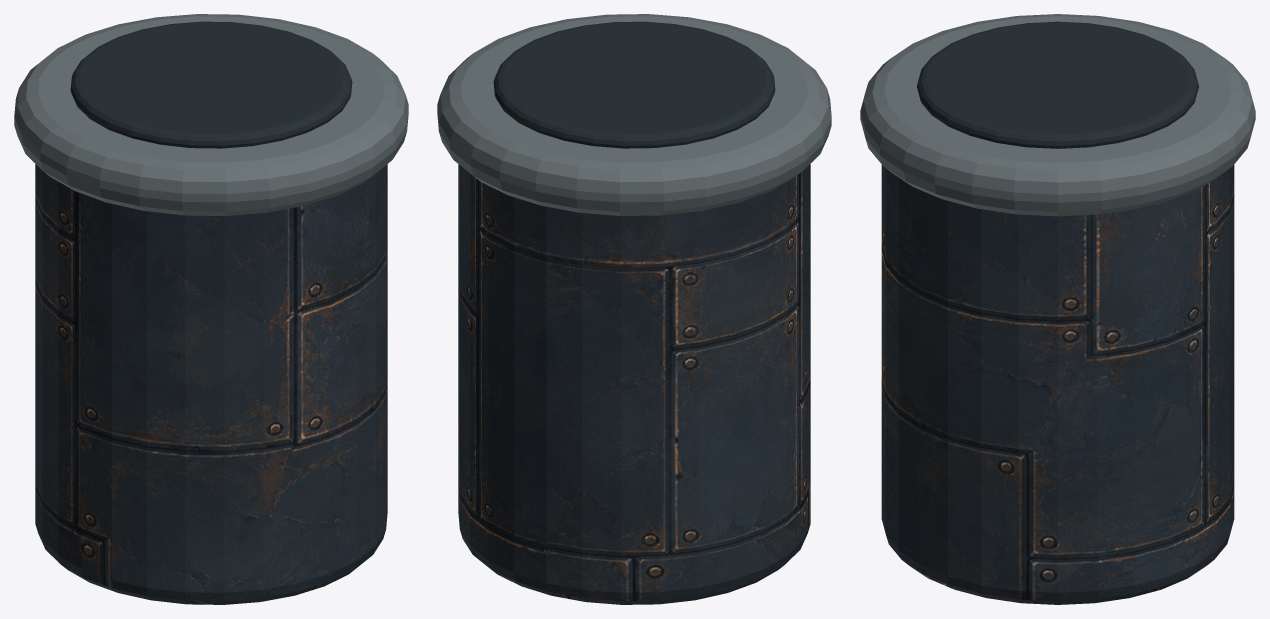
The model's file is APT_TrashCan_Round_Steel.glb.
3 renders of one model, left to right at view 1: azimuth 30°, elevation 25°; view 2: azimuth 150°, elevation 25°; view 3: azimuth 270°, elevation 25°, orthographic.
Visible parts, largest first — view 1: TrashRound_Body, TrashRound_Lip, TrashRound_Opening; view 2: TrashRound_Body, TrashRound_Lip, TrashRound_Opening; view 3: TrashRound_Body, TrashRound_Lip, TrashRound_Opening.
Boxes of the visible parts, x1,y1,x2,y2 form: TrashRound_Body: [35, 164, 387, 604]; TrashRound_Lip: [14, 14, 408, 215]; TrashRound_Opening: [70, 21, 352, 148]; TrashRound_Body: [458, 164, 810, 604]; TrashRound_Lip: [437, 14, 831, 215]; TrashRound_Opening: [493, 21, 775, 148]; TrashRound_Body: [881, 165, 1234, 604]; TrashRound_Lip: [860, 14, 1255, 216]; TrashRound_Opening: [917, 21, 1198, 148].
Size of the model in its own units: 0.56 by 0.7175 by 0.56.
Materials: 3 (1 with a texture image).
